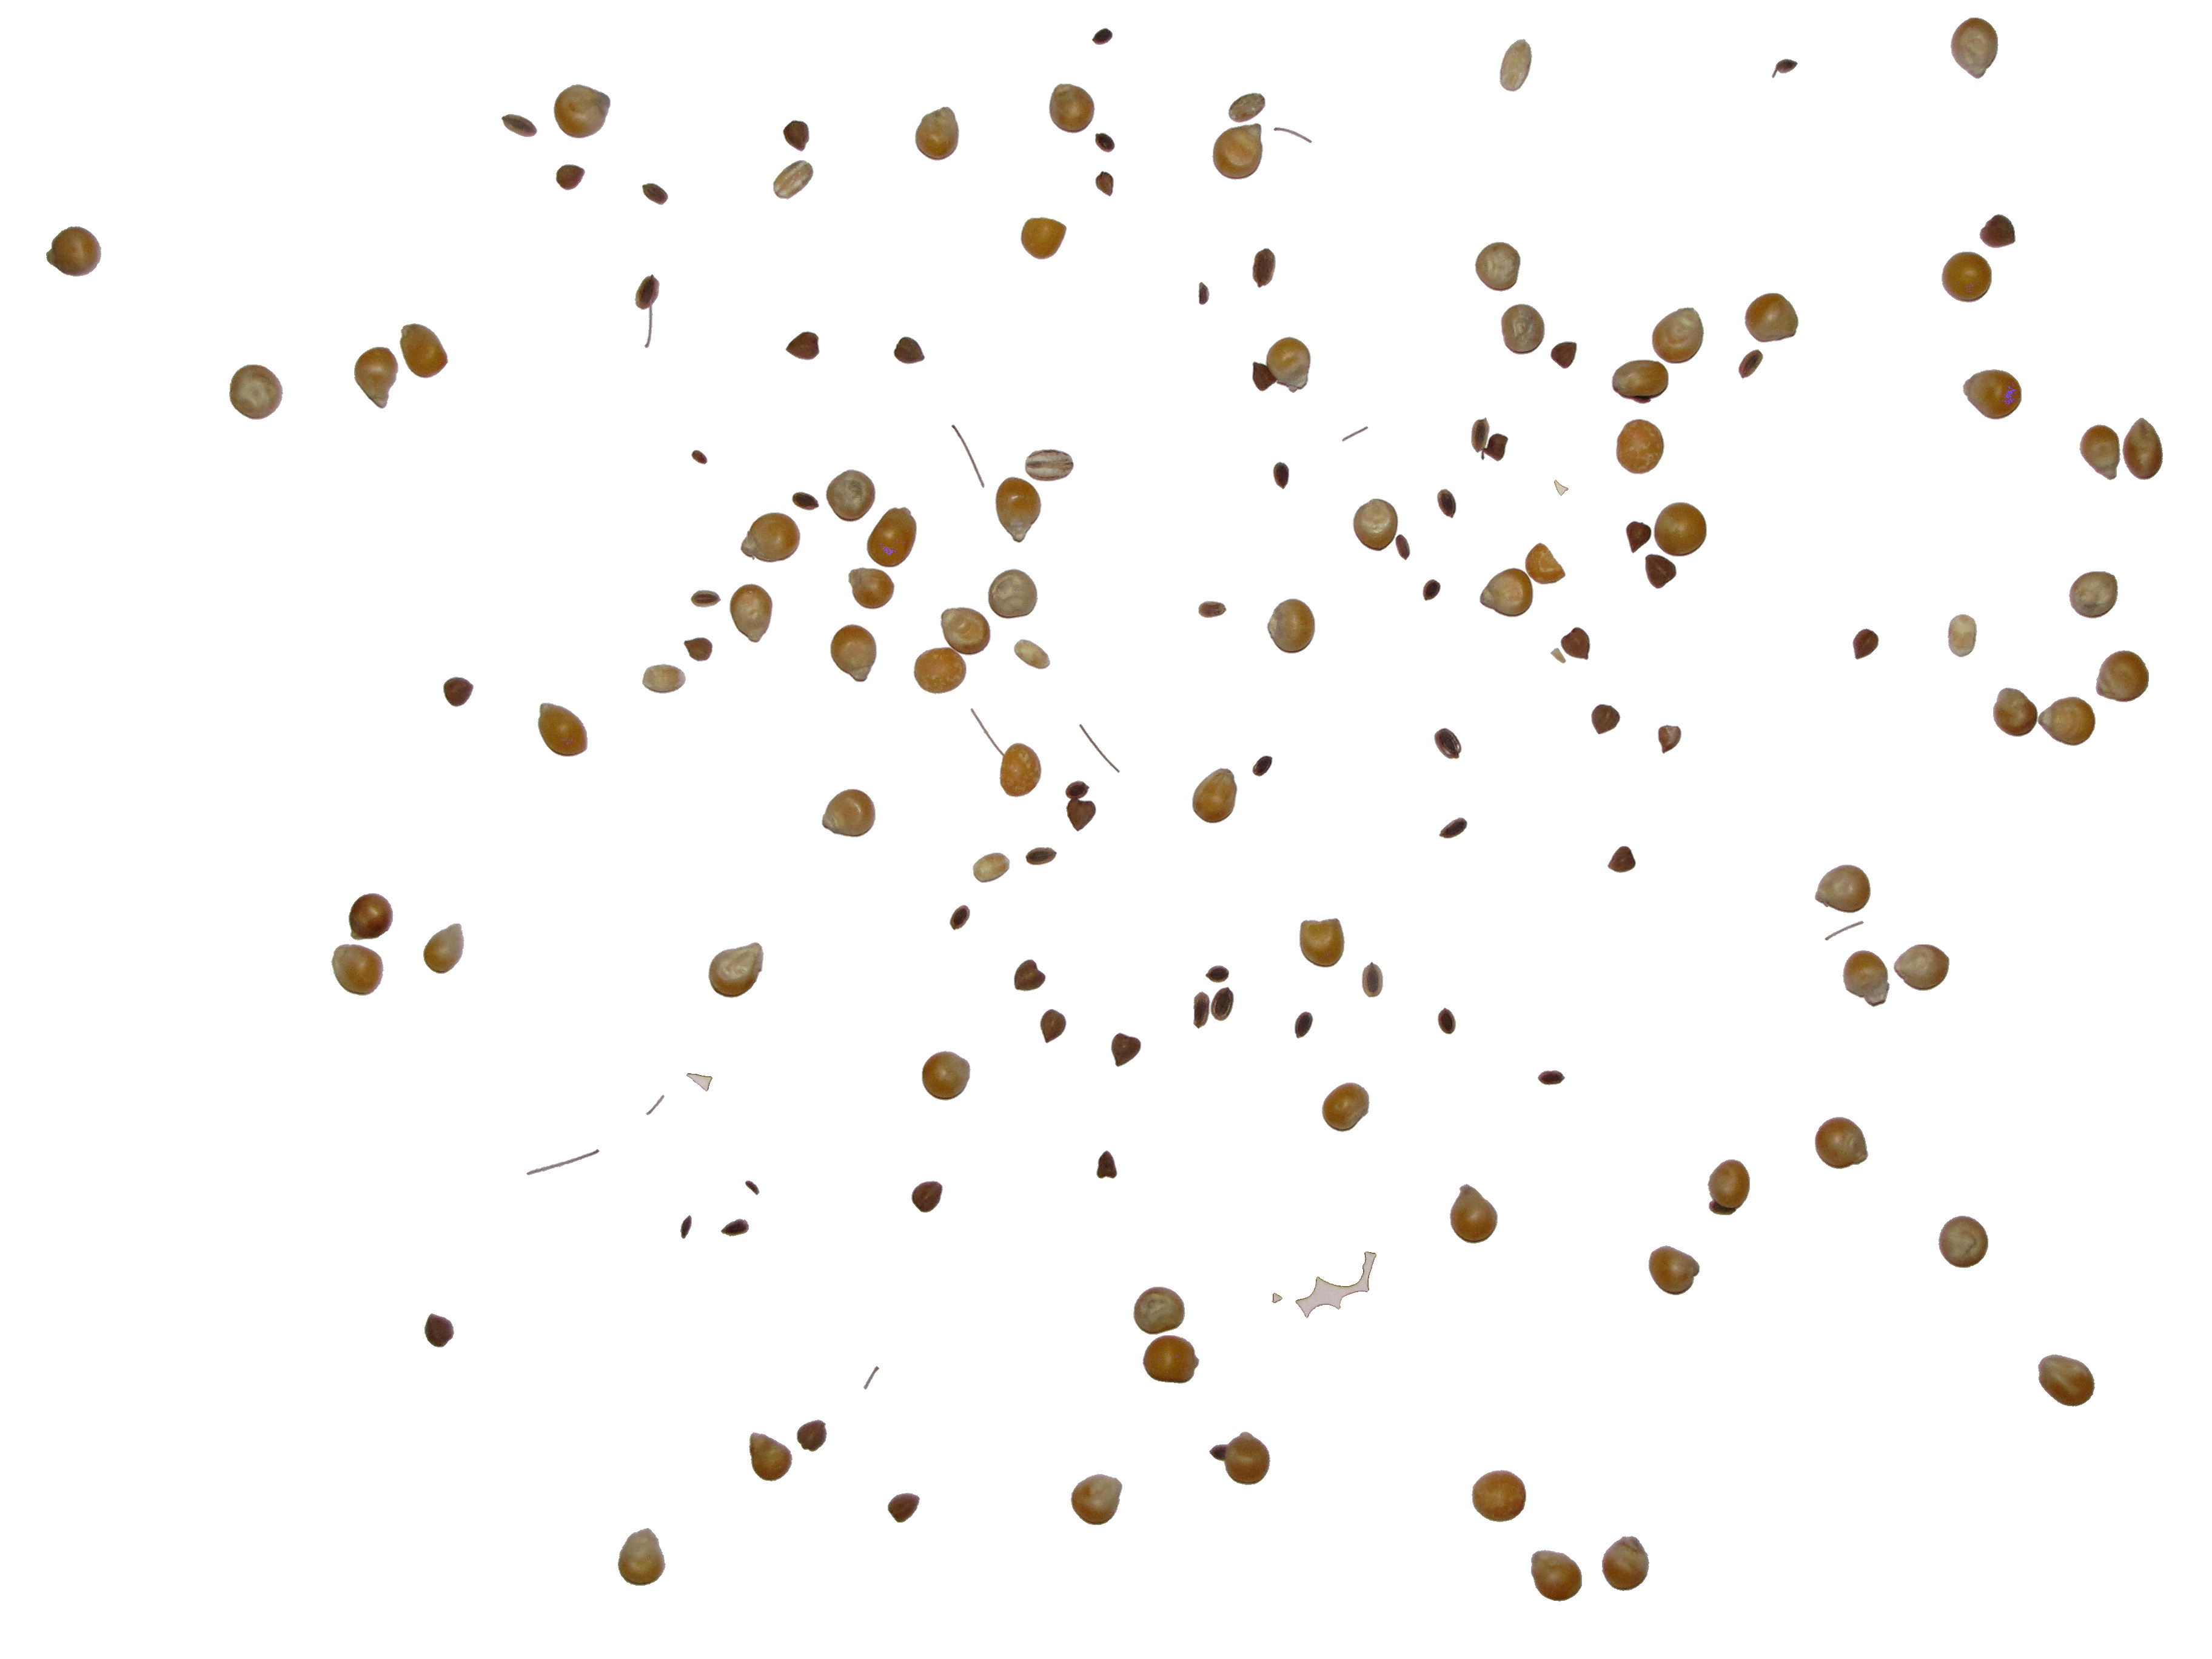buckwheat: (1980, 214, 2015, 247), (1644, 554, 1676, 589), (1014, 960, 1045, 992), (1561, 627, 1590, 660), (1111, 1033, 1141, 1066), (798, 1420, 827, 1452), (913, 1182, 942, 1213), (786, 331, 819, 359), (425, 1314, 453, 1347), (1066, 796, 1092, 831), (894, 336, 925, 364), (888, 1493, 920, 1521), (1252, 249, 1275, 288), (1040, 1009, 1066, 1042), (1592, 704, 1620, 734), (444, 678, 474, 706), (1211, 986, 1233, 1021), (1853, 629, 1879, 659), (1435, 728, 1461, 758), (1627, 521, 1651, 552), (784, 120, 808, 152), (1608, 847, 1635, 873), (502, 115, 536, 136), (1362, 962, 1383, 997), (636, 275, 657, 310), (556, 166, 585, 190), (1738, 350, 1763, 378), (1193, 992, 1211, 1028), (1552, 342, 1576, 368), (1658, 723, 1681, 751), (685, 638, 712, 660), (1491, 432, 1514, 460), (1439, 817, 1467, 838), (1437, 490, 1456, 518), (1097, 1150, 1116, 1178), (1026, 847, 1055, 864), (1773, 59, 1797, 78), (951, 904, 970, 929), (693, 591, 723, 606), (1296, 1012, 1313, 1039), (792, 493, 819, 511), (721, 1220, 749, 1236), (1198, 601, 1226, 617), (1096, 171, 1113, 195), (1439, 1009, 1456, 1033), (1273, 462, 1289, 488), (1205, 965, 1228, 983), (1252, 756, 1271, 775), (1538, 1070, 1564, 1084), (1395, 535, 1409, 559), (1423, 580, 1440, 599), (1092, 28, 1111, 44), (681, 1216, 691, 1239), (1198, 282, 1209, 305), (1103, 134, 1115, 152), (745, 1180, 759, 1194), (1552, 648, 1566, 662), (691, 451, 707, 464), (1555, 481, 1568, 495)
dill: (953, 425, 984, 488), (1080, 725, 1120, 772), (528, 1150, 599, 1175), (1825, 922, 1864, 939), (1273, 127, 1308, 139), (646, 1094, 664, 1115), (1343, 427, 1367, 441), (864, 1366, 878, 1389)
mais: (740, 512, 799, 563), (996, 477, 1042, 542), (709, 943, 763, 997), (2038, 1354, 2094, 1406), (554, 85, 610, 138), (867, 507, 916, 566), (1951, 17, 1998, 78), (230, 364, 282, 418), (1655, 502, 1707, 556), (1212, 124, 1263, 179), (1653, 307, 1703, 362), (2038, 697, 2095, 746), (1963, 369, 2020, 418), (1815, 1117, 1867, 1169), (1472, 1471, 1526, 1521), (1451, 1185, 1498, 1243), (618, 1528, 665, 1586), (331, 945, 383, 995), (2097, 650, 2148, 702), (47, 227, 101, 275), (1745, 293, 1799, 342), (1843, 951, 1890, 1007), (1815, 866, 1871, 913), (1143, 1337, 1198, 1384), (831, 624, 876, 681), (1071, 1474, 1122, 1525), (1531, 1551, 1581, 1601), (998, 737, 1040, 798), (355, 347, 397, 408), (1480, 568, 1533, 617), (538, 704, 587, 756), (401, 324, 448, 378), (1602, 1537, 1649, 1591), (1268, 599, 1315, 653), (1224, 1432, 1271, 1486), (1616, 420, 1663, 474), (730, 584, 773, 641), (1649, 1246, 1700, 1295), (988, 570, 1038, 619), (1939, 1216, 1987, 1267), (822, 789, 874, 836), (1895, 945, 1949, 990), (1942, 253, 1991, 301), (941, 608, 991, 655), (827, 471, 874, 521), (914, 648, 967, 694), (1193, 769, 1237, 823), (2123, 418, 2161, 479), (1613, 361, 1669, 403), (1322, 1082, 1369, 1131), (2069, 572, 2118, 619), (923, 1051, 970, 1100), (1134, 1288, 1184, 1333), (1353, 498, 1397, 551), (1475, 242, 1521, 291), (1299, 918, 1345, 967), (916, 108, 958, 160), (1268, 336, 1310, 389), (2080, 425, 2120, 479), (1709, 1161, 1749, 1215), (749, 1432, 792, 1481), (1501, 305, 1545, 354), (1050, 84, 1094, 132), (1994, 688, 2038, 735), (350, 894, 394, 939), (423, 924, 463, 972), (1021, 218, 1066, 260), (848, 568, 895, 608), (1526, 544, 1566, 584), (1014, 640, 1050, 669)
other: (1296, 1255, 1376, 1319), (1500, 40, 1531, 91), (1026, 450, 1073, 481), (773, 160, 810, 195), (644, 664, 686, 694), (1951, 615, 1979, 657), (1228, 94, 1264, 122), (974, 854, 1010, 882), (643, 183, 667, 204), (686, 1073, 712, 1091), (1273, 1293, 1282, 1302)
